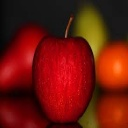apple: (32, 13, 96, 125)
